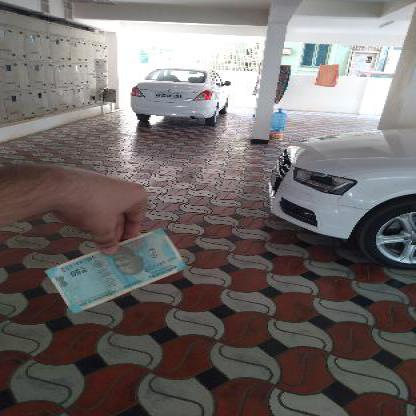New50Front: (50, 228, 188, 310)
